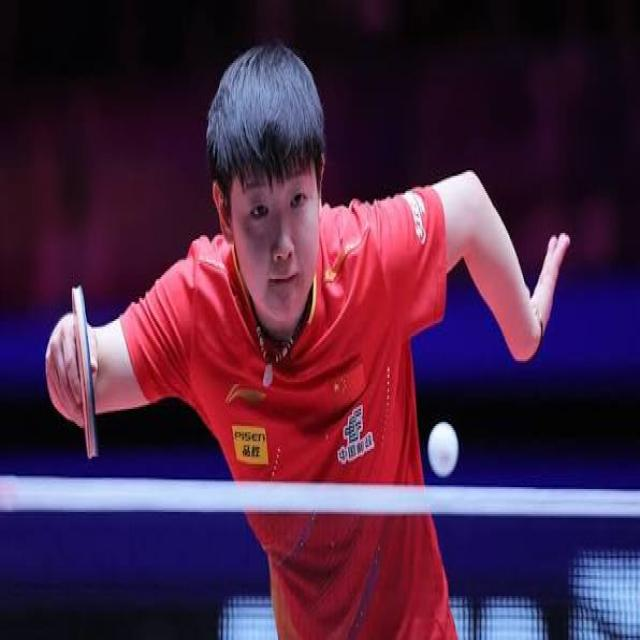TT Net: (1, 470, 639, 638)
TT Racket: (65, 277, 104, 466)
